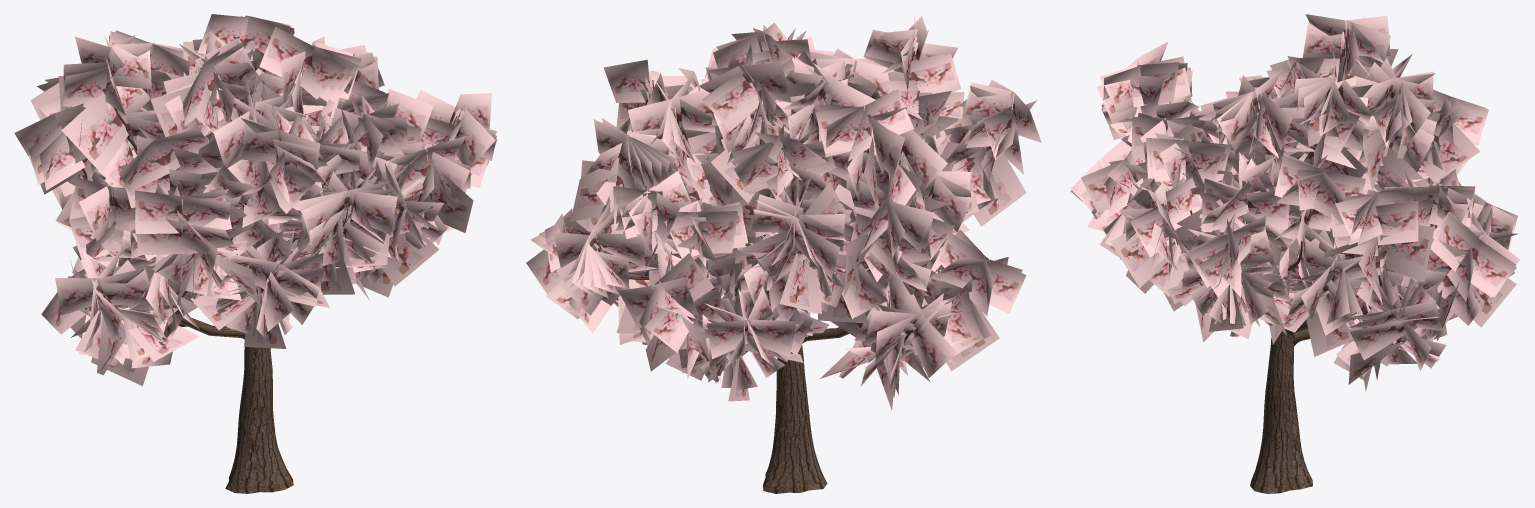
File: sakura-build44.glb
3 views of the same model, side by side, from view 1: azimuth 30°, elevation 25°; view 2: azimuth 150°, elevation 25°; view 3: azimuth 270°, elevation 25° (orthographic). The views are drawn at different scales.
Visible parts, largest first — view 1: sakura; view 2: sakura; view 3: sakura.
Part boxes in pixels (x1,y1,x2,y2): sakura: (14,14,497,493); sakura: (526,14,1041,493); sakura: (1070,14,1520,493).
Bounding box in the file's own units: 0.9674 × 1 × 0.9627.
2 materials, 2 textured.
